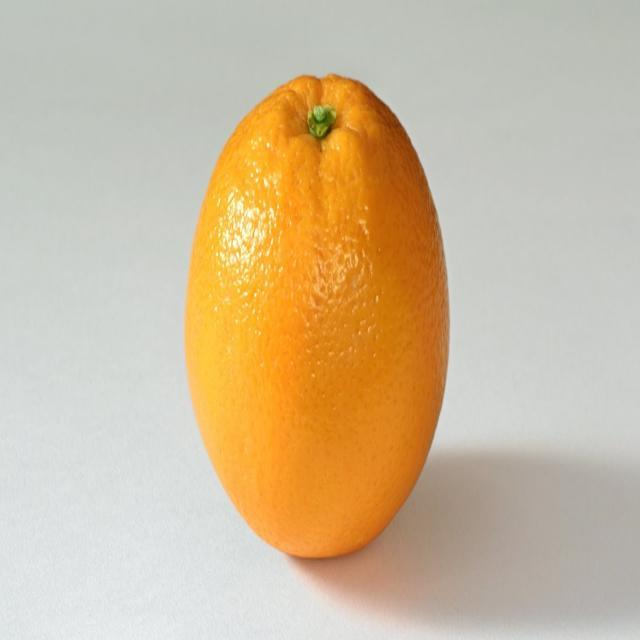Orange: (182, 77, 454, 566)
